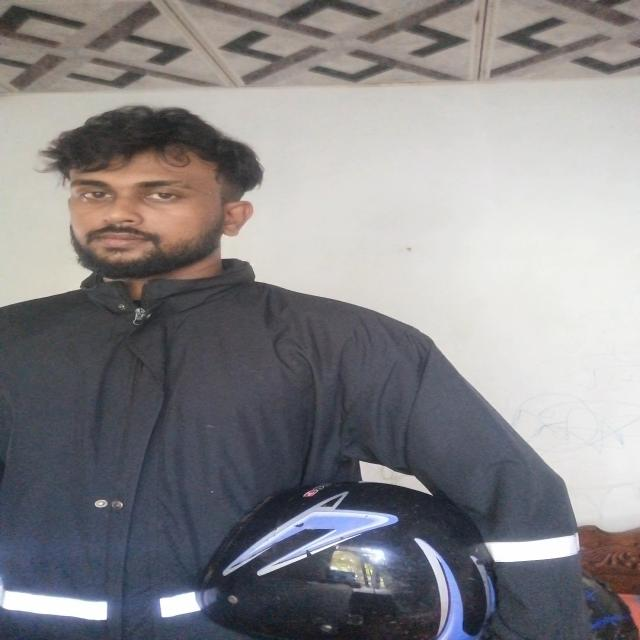Jacket_Wearer: (0, 264, 593, 638)
Person: (0, 103, 612, 626), (28, 104, 34, 105)
